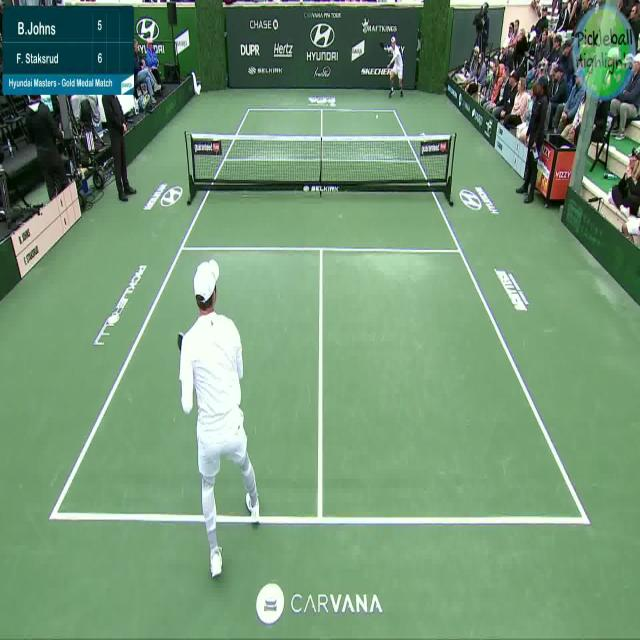ball: (372, 108, 383, 128)
